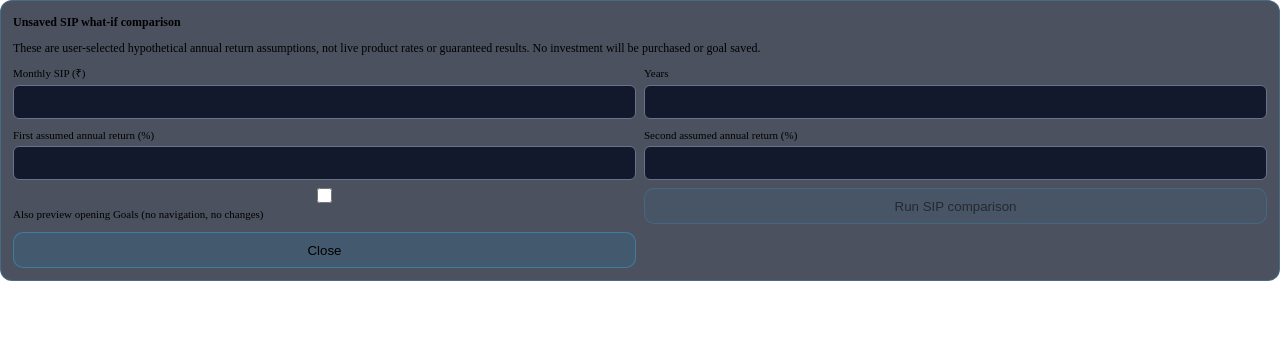
Test case: Sovereign SIP comparison › shows only expected verified read-only engine output
Type "5000" into the number field named "Monthly SIP amount".
click(324, 102); type("5000")  # box x1=13 y1=84 x2=636 y2=118
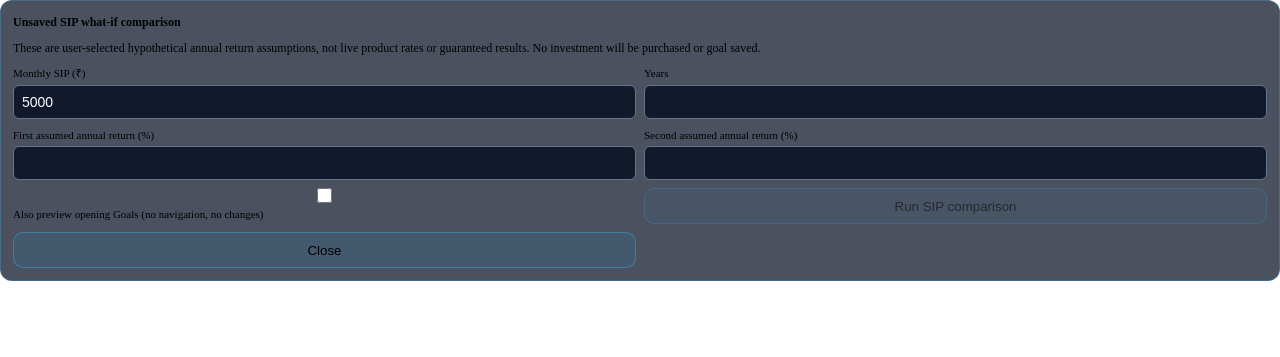
Type "10" into the number field named "SIP years".
click(956, 102); type("10")  # box x1=644 y1=84 x2=1267 y2=118
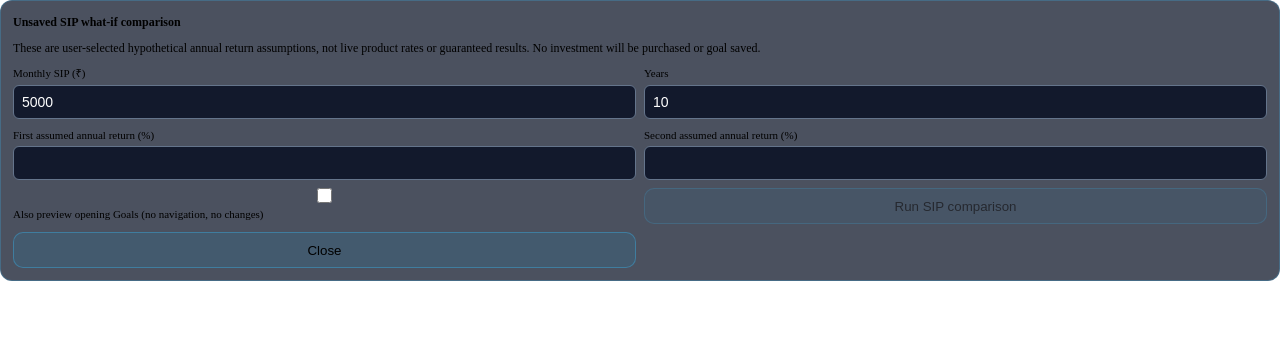
Type "7" into the number field named "First annual return assumption".
click(324, 163); type("7")  # box x1=13 y1=146 x2=636 y2=180
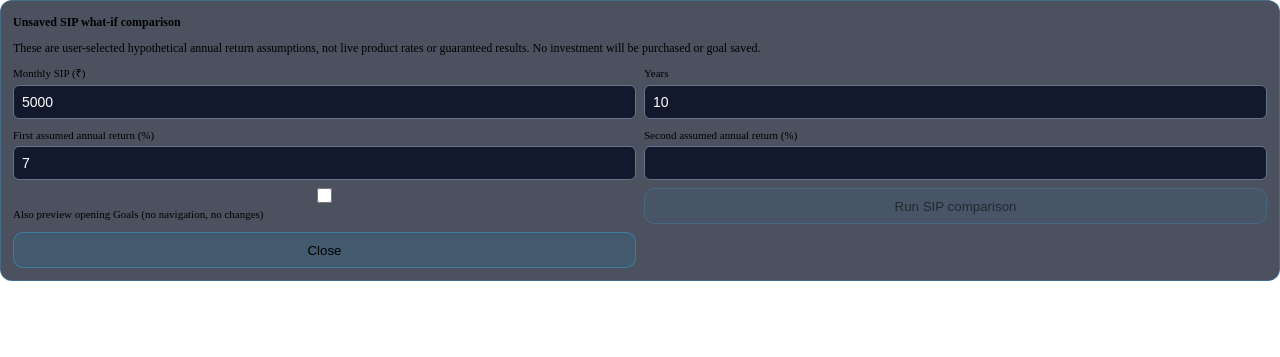
Type "10" into the number field named "Second annual return assumption".
click(956, 163); type("10")  # box x1=644 y1=146 x2=1267 y2=180
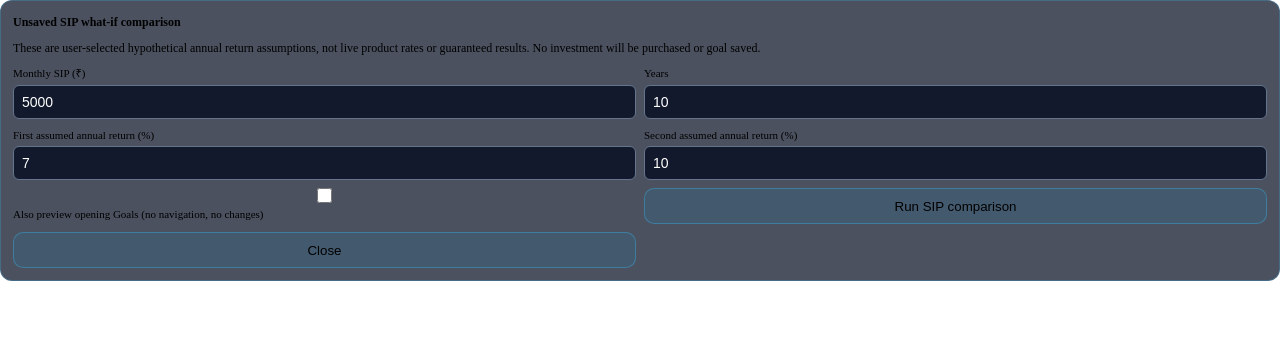
Click the button "Run SIP comparison".
click(956, 206)  # box x1=644 y1=188 x2=1267 y2=224
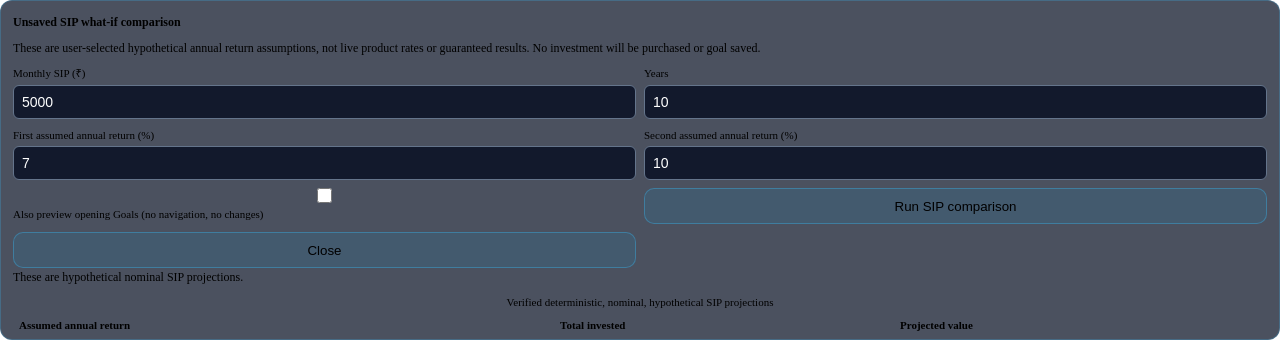
Result: the text "These are hypothetical nominal SIP projections." is shown at x1=13 y1=270 x2=243 y2=284
